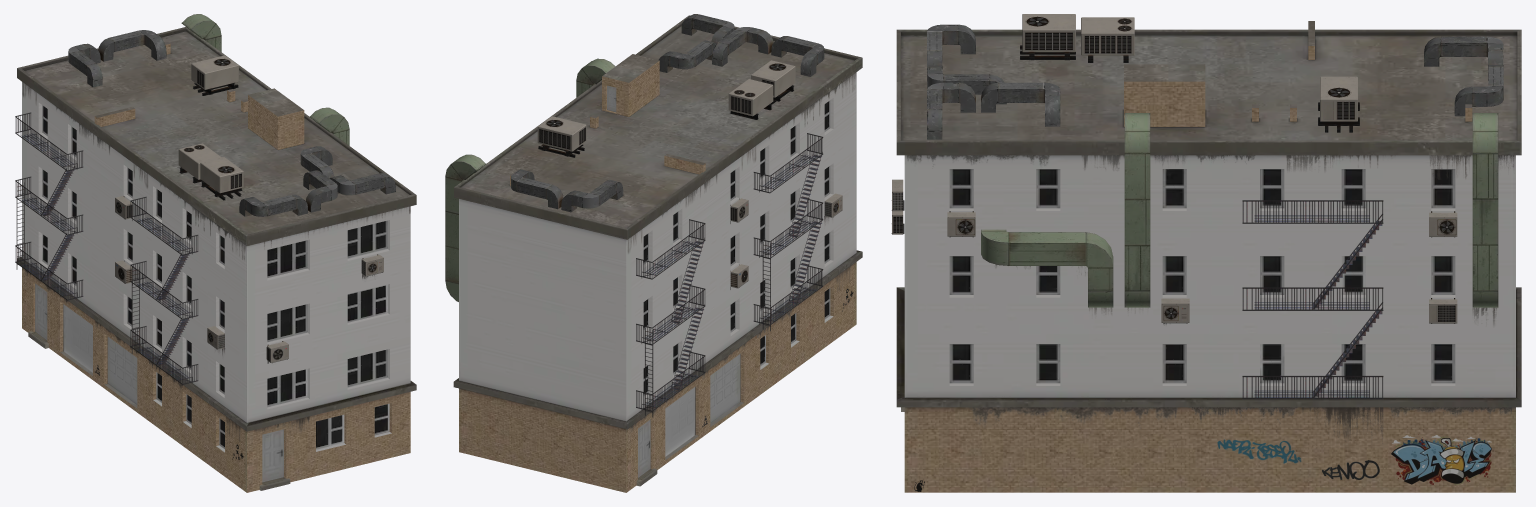
3 views of the same model, side by side, from view 1: azimuth 30°, elevation 25°; view 2: azimuth 150°, elevation 25°; view 3: azimuth 270°, elevation 25° (orthographic). The views are drawn at different scales.
Parts seen in each view (by area): view 1: Object_4, Object_7, Object_8, Object_5, Object_6, Object_2; view 2: Object_4, Object_8, Object_7, Object_5, Object_6, Object_2; view 3: Object_4, Object_8, Object_5, Object_7, Object_2, Object_3, Object_6.
Boxes of the visible parts, x1,y1,x2,y2 form: Object_4: [17, 27, 416, 492]; Object_7: [15, 112, 198, 384]; Object_8: [68, 14, 395, 216]; Object_5: [115, 55, 383, 363]; Object_6: [21, 133, 189, 380]; Object_2: [22, 83, 410, 441]; Object_4: [453, 15, 862, 492]; Object_8: [445, 14, 824, 301]; Object_7: [636, 133, 823, 417]; Object_5: [537, 60, 842, 289]; Object_6: [645, 155, 815, 407]; Object_2: [627, 73, 856, 431]; Object_4: [896, 21, 1521, 492]; Object_8: [927, 24, 1503, 307]; Object_5: [891, 14, 1457, 323]; Object_7: [1242, 200, 1383, 399]; Object_2: [907, 155, 1514, 438]; Object_3: [914, 434, 1491, 491]; Object_6: [1254, 215, 1369, 397].
Size of the model in its own units: 7.93 by 10.96 by 15.88.
7 materials, 7 textured.
